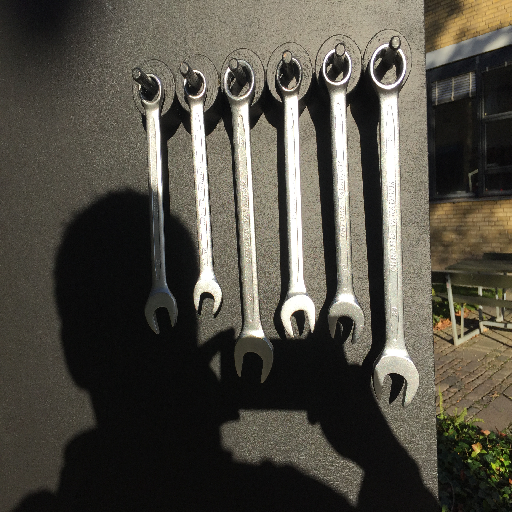bottom: (371, 347, 420, 409), (233, 330, 274, 385), (325, 294, 365, 346), (142, 287, 181, 335), (279, 292, 317, 340), (191, 274, 224, 315)
top: (367, 41, 408, 96), (222, 59, 258, 106), (320, 46, 354, 93), (274, 55, 305, 99), (137, 72, 167, 109), (182, 69, 209, 103)
